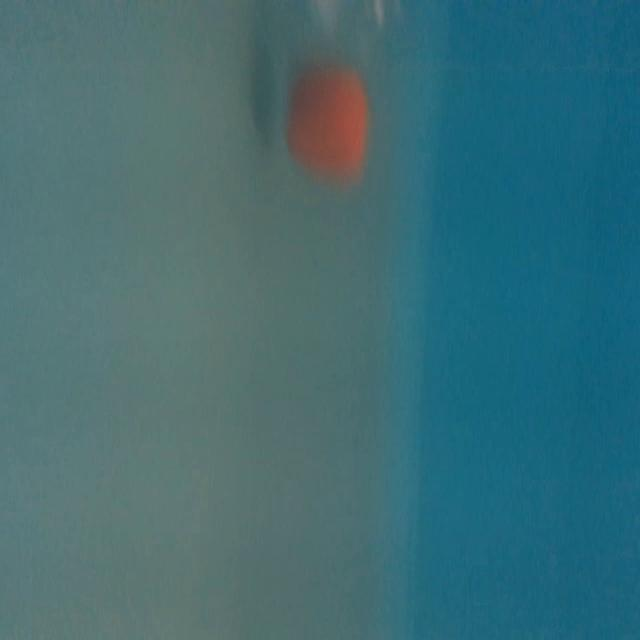plastic bottle: (239, 0, 398, 181)
